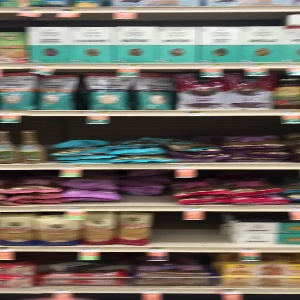void: (155, 212, 227, 246), (120, 165, 169, 209)
